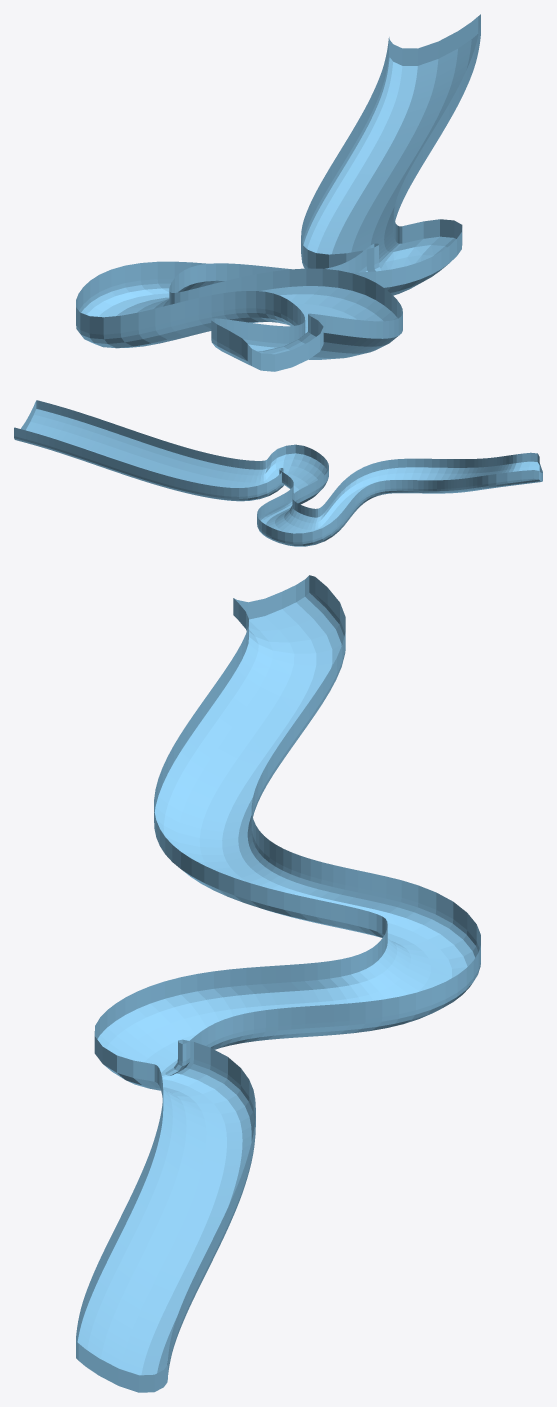
File: river.glb
The picture shows the model from 3 angles, top to bottom: view 1: azimuth 90°, elevation 25°; view 2: azimuth 150°, elevation 25°; view 3: azimuth 270°, elevation 25°; orthographic projection. The views are drawn at different scales.
Parts seen in each view (by area): view 1: Plane; view 2: Plane; view 3: Plane.
Boxes of the visible parts, x1,y1,x2,y2 form: Plane: (76,14,480,371); Plane: (14,400,542,546); Plane: (76,575,480,1392).
Bounding box in the file's own units: 39.99 × 9.25 × 12.49.
